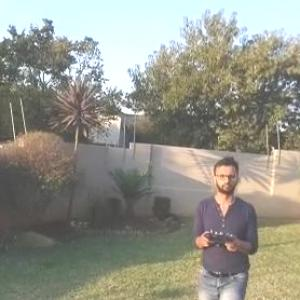follow: (188, 153, 262, 299)
